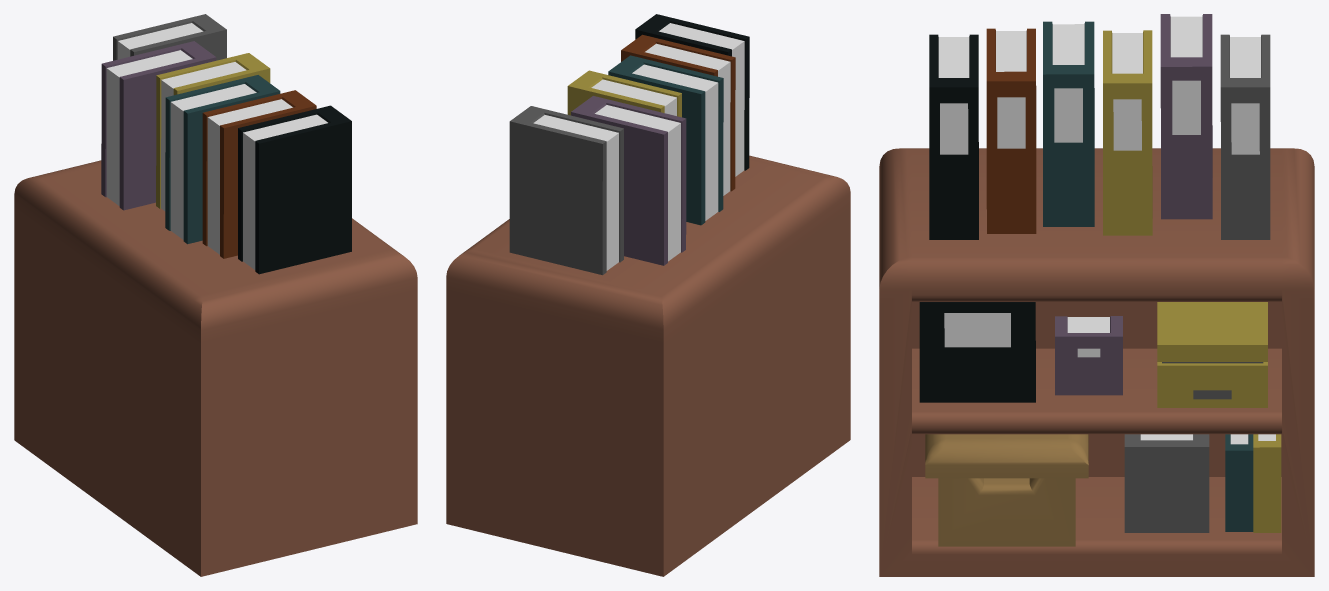
Rendered from Break room1.fbx.
3 renders of one model, left to right at view 1: azimuth 30°, elevation 25°; view 2: azimuth 150°, elevation 25°; view 3: azimuth 270°, elevation 25°, orthographic. The views are drawn at different scales.
Parts seen in each view (by area): view 1: Cube.012, Cube.044, Cube.039, Cube.042, Cube.043, Cube.041, Cube.014; view 2: Cube.012, Cube.014, Cube.039, Cube.042, Cube.044, Cube.043, Cube.041; view 3: Cube.012, Cube.046, Cube.048, Cube.047, Cube.039, Cube.042, Cube.043, Cube.014, Cube.044, Cube.041, Cube.040, Cube.049 (+2 smaller).
Boxes of the visible parts, x1,y1,x2,y2 form: Cube.012: [14, 160, 417, 576]; Cube.044: [238, 105, 351, 274]; Cube.039: [101, 41, 216, 210]; Cube.042: [165, 75, 280, 244]; Cube.043: [202, 90, 316, 258]; Cube.041: [156, 53, 270, 211]; Cube.014: [113, 14, 226, 60]; Cube.012: [446, 155, 850, 576]; Cube.014: [509, 106, 623, 275]; Cube.039: [571, 96, 686, 265]; Cube.042: [608, 55, 723, 225]; Cube.044: [635, 14, 749, 176]; Cube.043: [621, 34, 735, 195]; Cube.041: [567, 70, 681, 117]; Cube.012: [879, 148, 1314, 576]; Cube.046: [925, 434, 1088, 546]; Cube.048: [919, 302, 1035, 402]; Cube.047: [1157, 302, 1267, 407]; Cube.039: [1160, 14, 1212, 219]; Cube.042: [1043, 21, 1094, 226]; Cube.043: [986, 28, 1036, 233]; Cube.014: [1220, 34, 1270, 239]; Cube.044: [929, 34, 978, 239]; Cube.041: [1103, 30, 1152, 235]; Cube.040: [1124, 434, 1209, 532]; Cube.049: [1055, 316, 1122, 395].
Bounding box in the file's own units: 491 × 832 × 706.
